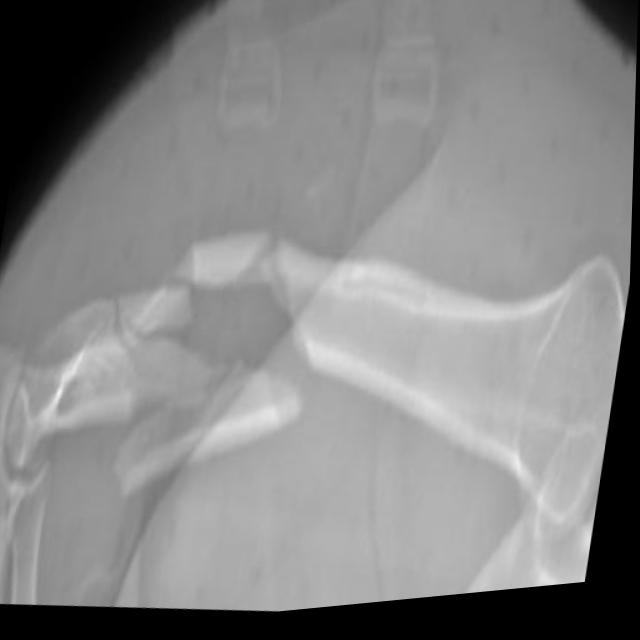fracture: (139, 181, 351, 482)
